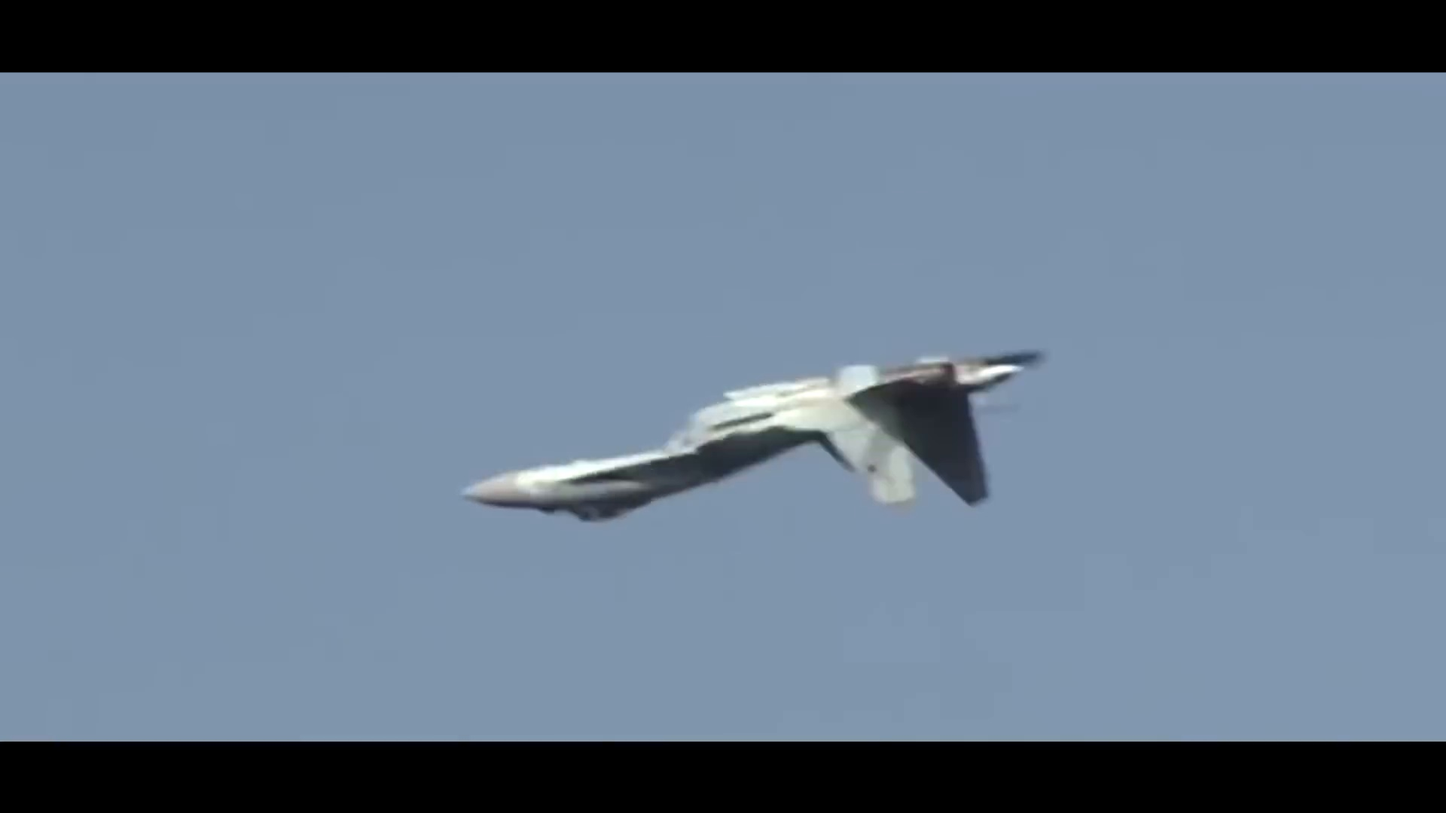Su35: (460, 351, 1043, 524)
